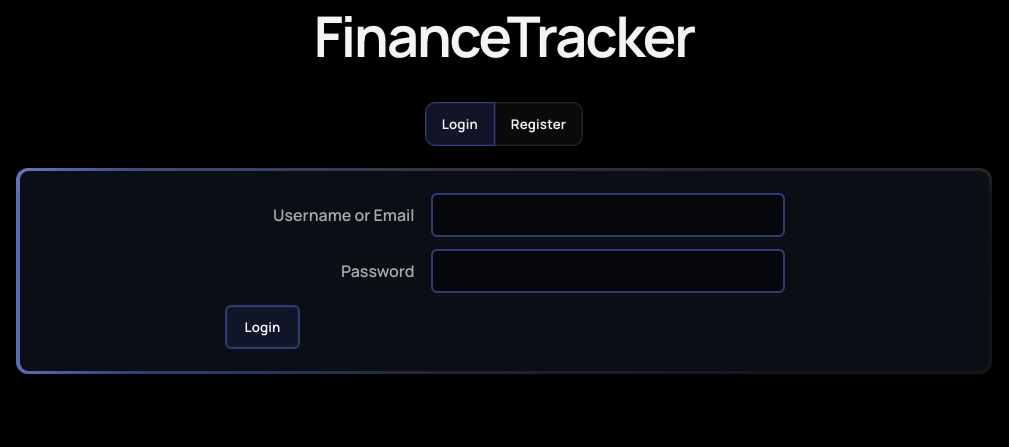
Test: authentication screen › switches to the registration fields
Click the button "Register": coordinates (539, 124) [495,102,583,146]
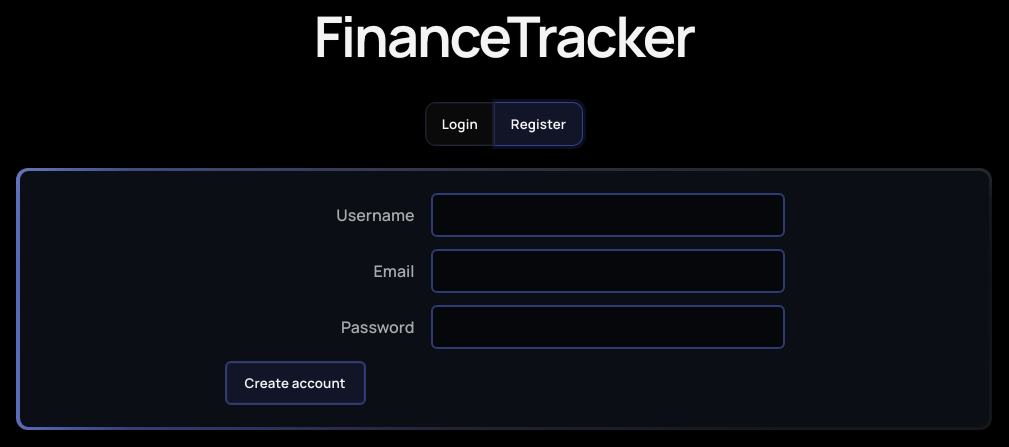
Expected: the field labelled "Username" is shown, [430,193,784,237]
Now the button "Create account" is shown, box [224,361,366,405]
